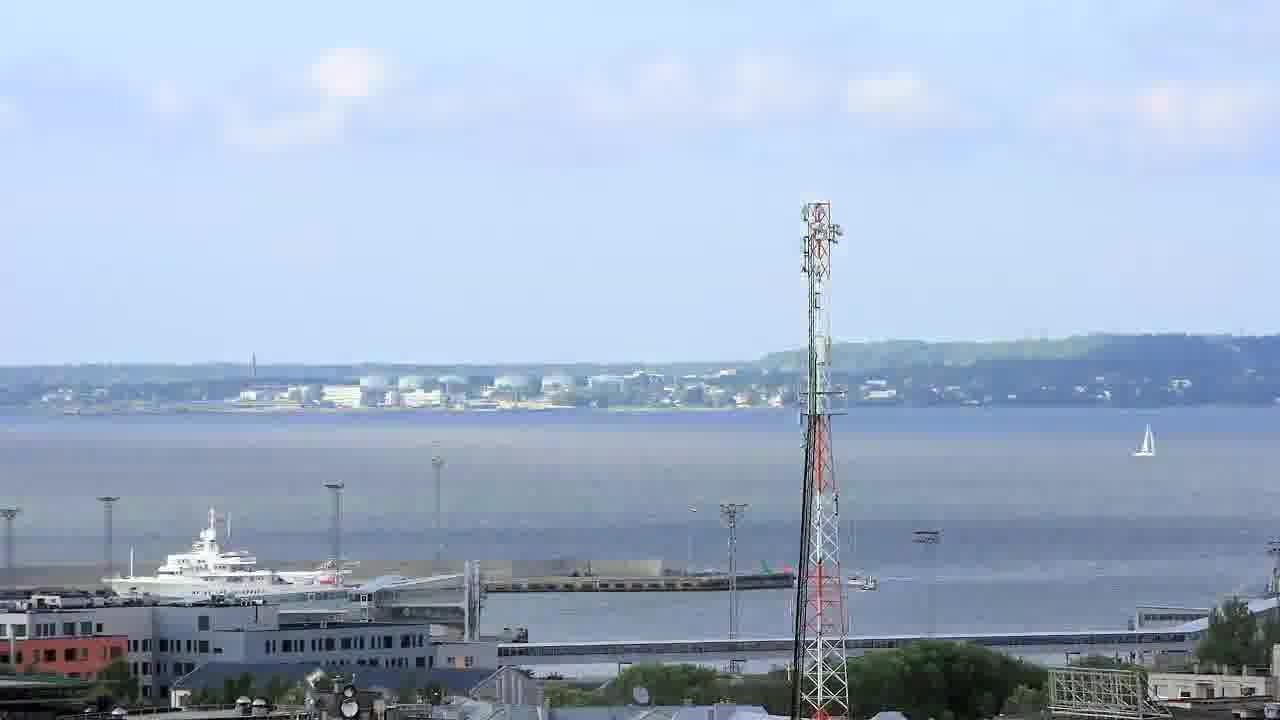type-0: (844, 562, 887, 604)
type-2: (1117, 408, 1191, 467)
type-3: (84, 515, 355, 603)
